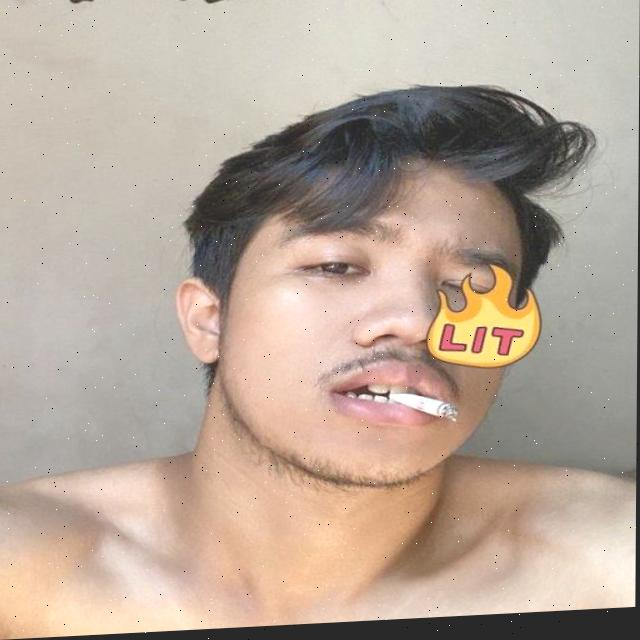cigarette: (388, 391, 457, 430)
